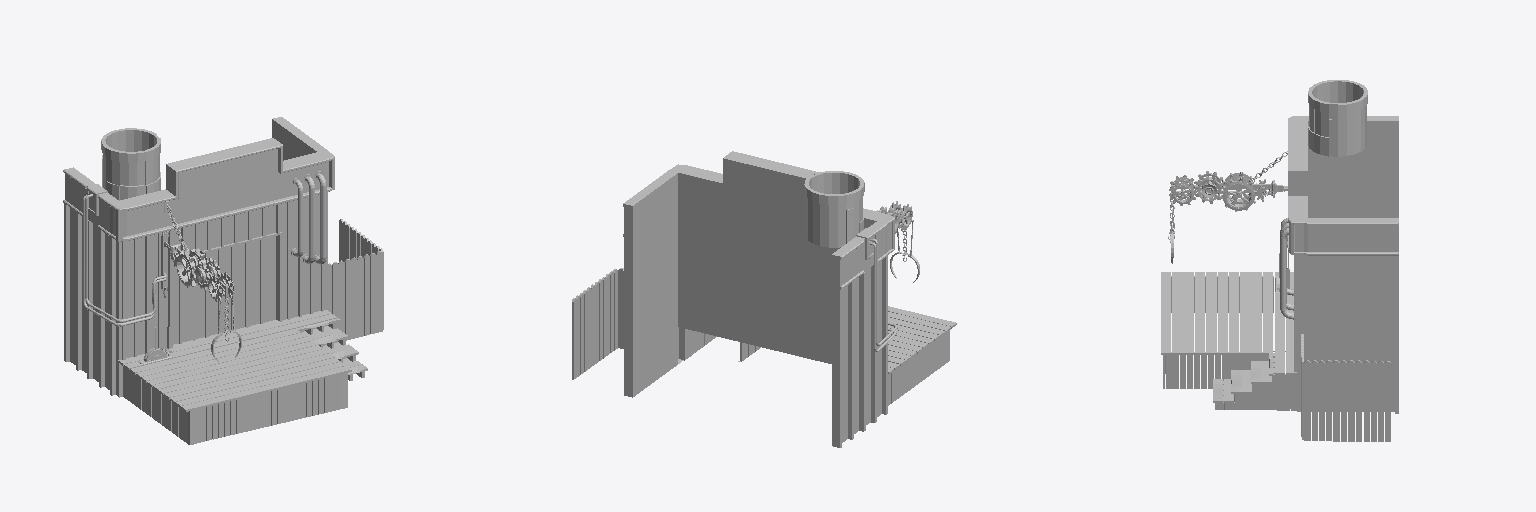
Rendered from FreigiiitDepot.obj.
3 views of the same model, side by side, from view 1: azimuth 30°, elevation 25°; view 2: azimuth 150°, elevation 25°; view 3: azimuth 270°, elevation 25° (orthographic).
Parts seen in each view (by area): view 1: pCube261; view 2: pCube261; view 3: pCube261.
Part boxes in pixels (left/top/right/bottom): pCube261: left=63, top=117, right=383, bottom=444; pCube261: left=572, top=151, right=956, bottom=447; pCube261: left=1161, top=80, right=1398, bottom=441.
Bounding box in the file's own units: 21.95 × 17.46 × 16.1.